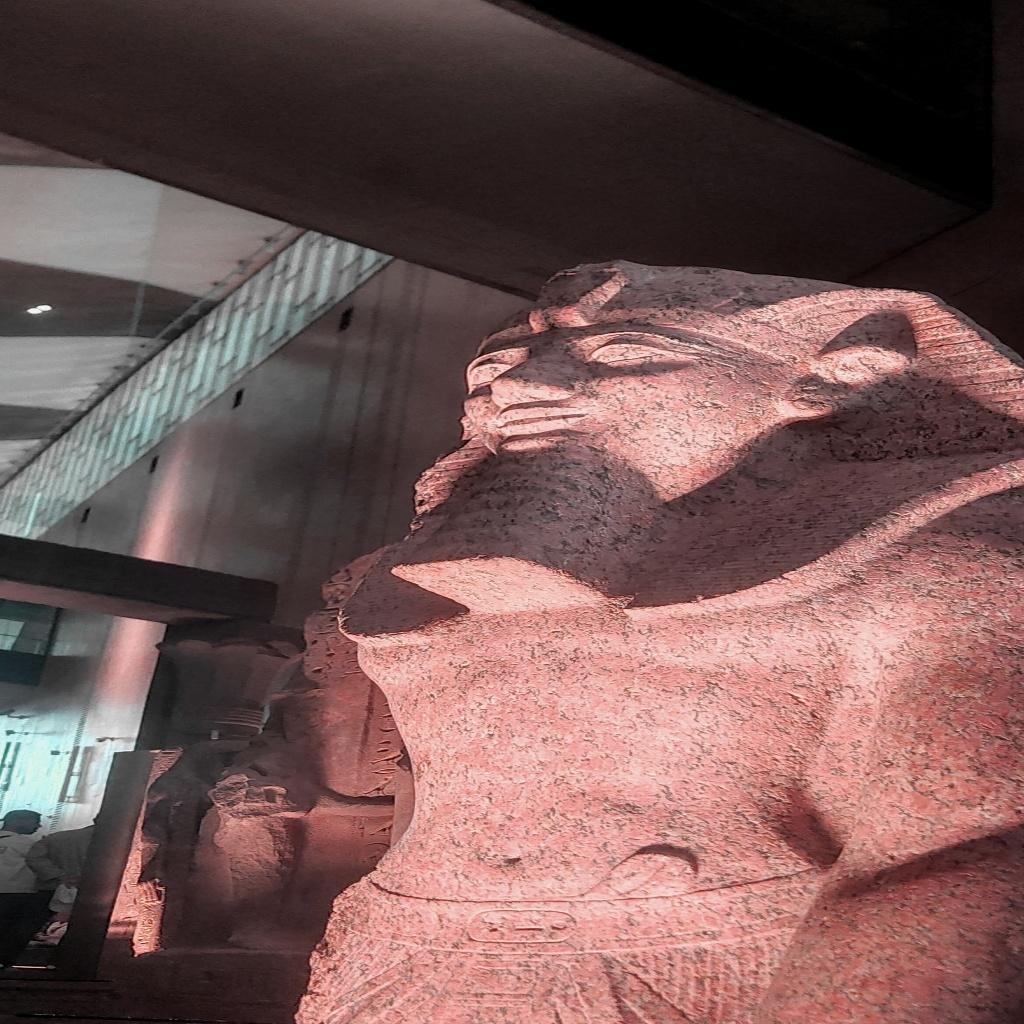Standing Statue of Thutmose III: (279, 262, 1024, 1018)
